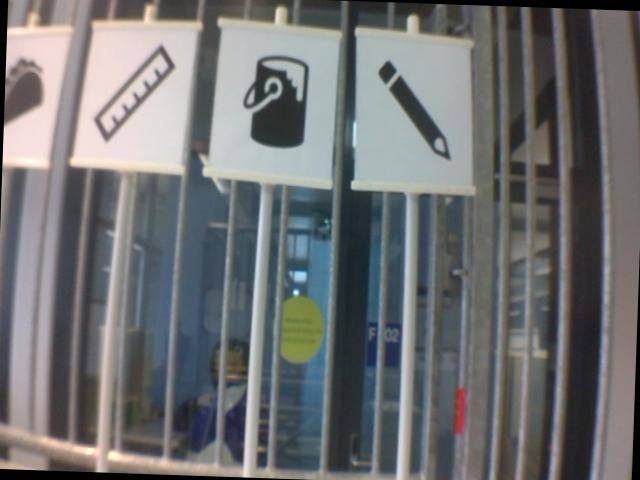bucket: (236, 50, 314, 158)
pencil: (370, 54, 458, 165)
ruler: (87, 38, 176, 149)
taco: (4, 49, 48, 142)
